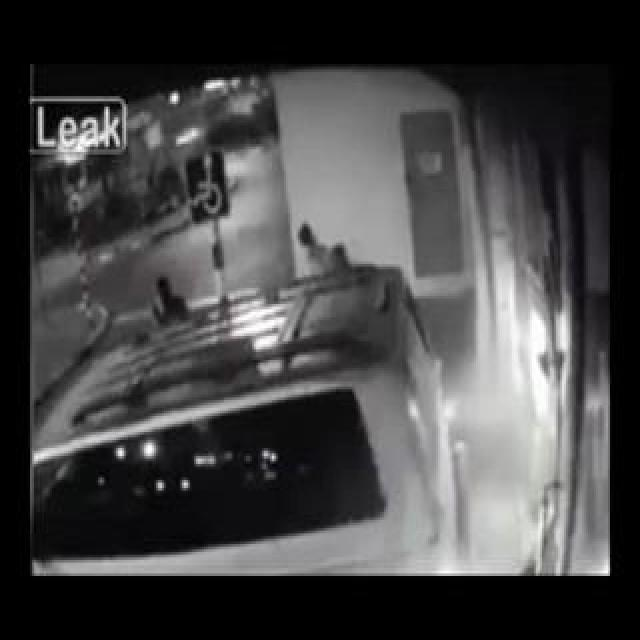burglary: (461, 242, 577, 482)
